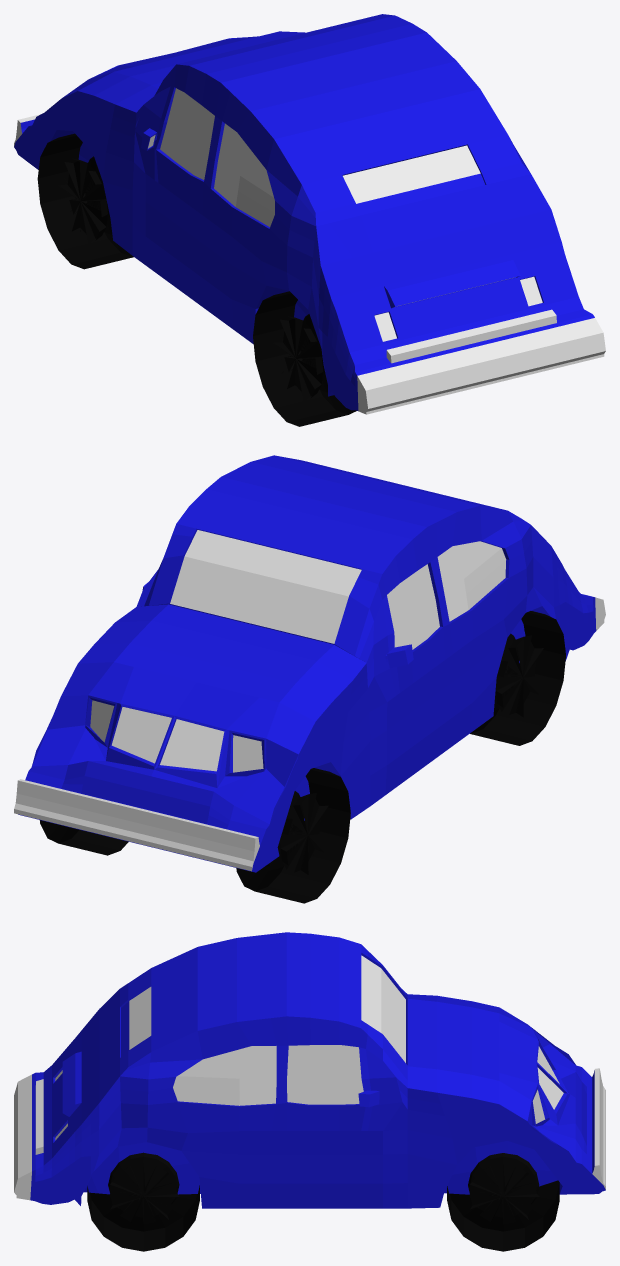
File: car2.fbx
3 views of the same model, one above another, from view 1: azimuth 30°, elevation 25°; view 2: azimuth 150°, elevation 25°; view 3: azimuth 270°, elevation 25° (orthographic). The views are drawn at different scales.
Visible parts, largest first — view 1: Cube; view 2: Cube; view 3: Cube.
Boxes of the visible parts, bbox=[...] form: Cube: bbox=[14, 14, 605, 426]; Cube: bbox=[14, 455, 605, 903]; Cube: bbox=[14, 932, 605, 1251].
Bounding box in the file's own units: 211 × 205 × 484.
